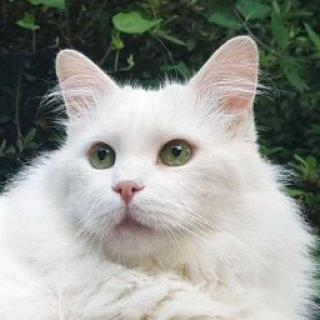cat: (51, 43, 262, 263)
nose: (110, 167, 145, 207)
